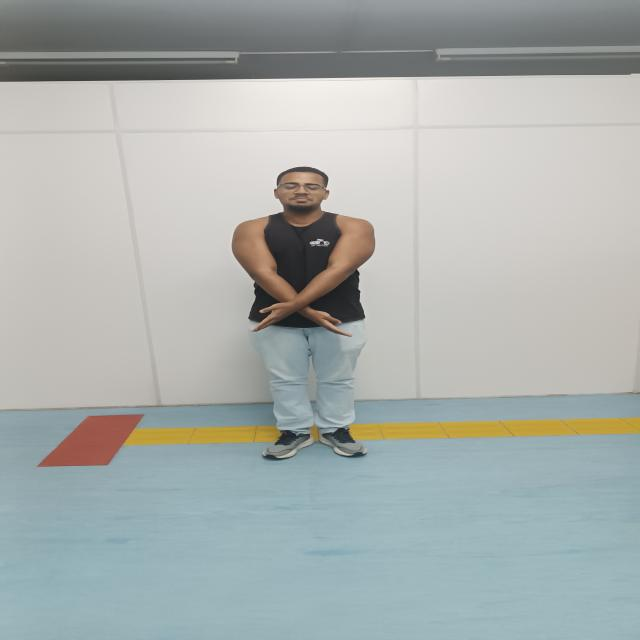land: (233, 166, 375, 460)
